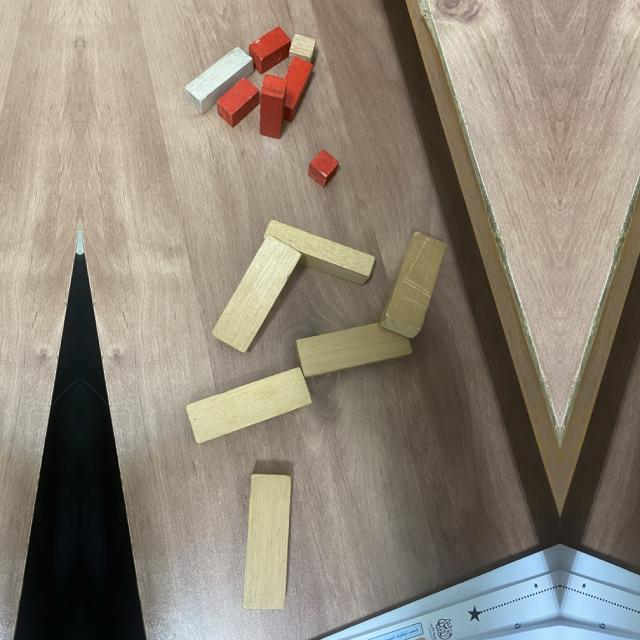block: (184, 47, 254, 114)
cube: (289, 34, 316, 63)
jenga: (212, 236, 302, 352), (187, 368, 312, 444), (380, 232, 446, 340), (266, 221, 375, 286), (242, 474, 292, 610), (298, 323, 412, 377)
red block: (216, 78, 260, 128), (284, 56, 313, 122), (249, 27, 291, 72), (260, 75, 286, 139)
red cube: (309, 151, 338, 187)
